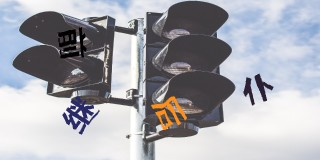仆: (243, 74, 273, 105)
前: (57, 26, 87, 59)
后: (150, 95, 187, 130)
继: (62, 96, 99, 134)
